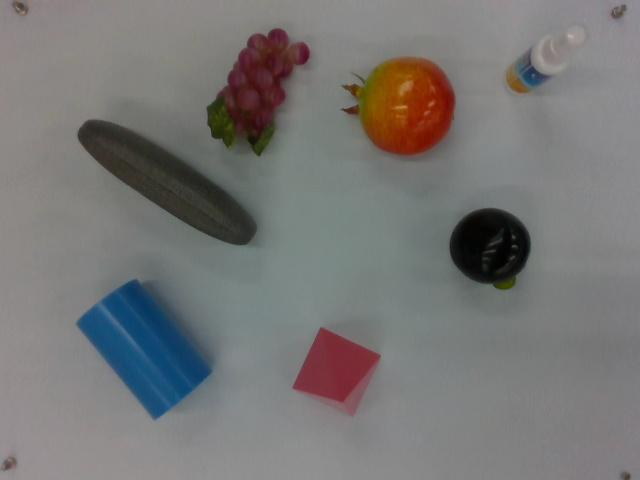cylinder: (74, 275, 214, 423)
detergent: (506, 21, 588, 101)
glassescase: (78, 114, 260, 249)
grape: (206, 24, 310, 158)
mangosteen: (450, 206, 534, 295)
pomegranate: (340, 54, 456, 159)
pyramid: (290, 322, 383, 422)
